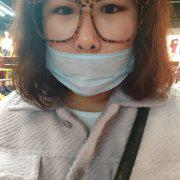WRONG: (42, 3, 143, 98)
